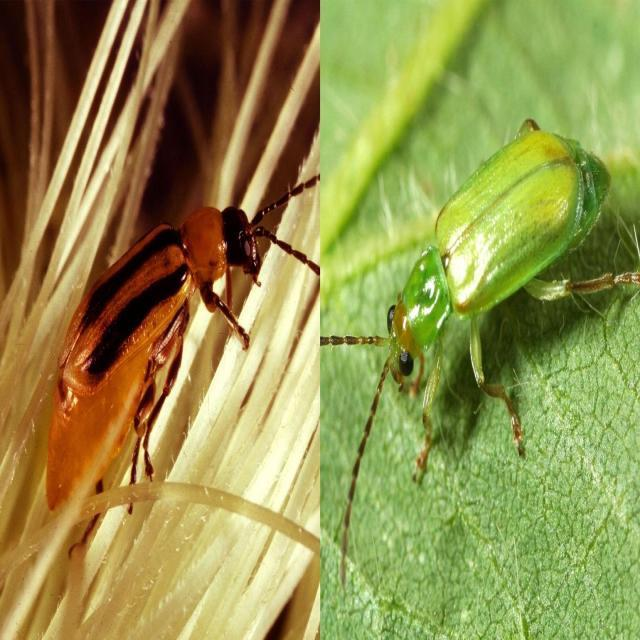gusano_gris: (322, 117, 640, 584)
trips: (48, 170, 321, 514)
